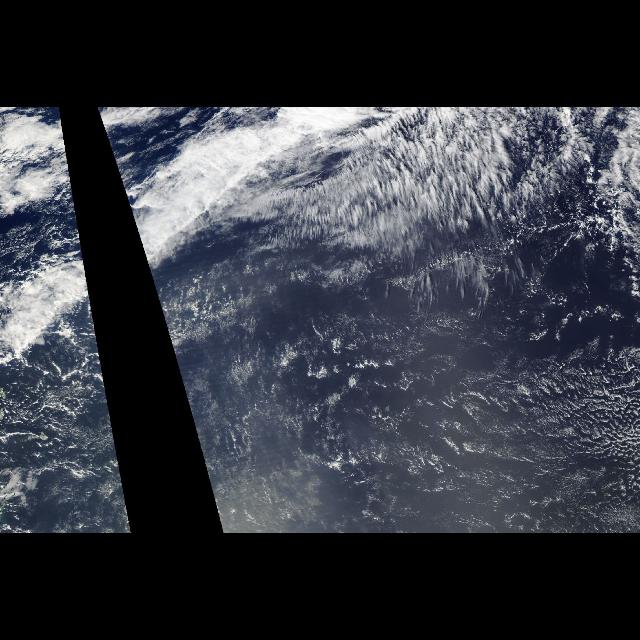Sugar: (251, 268, 639, 534)
